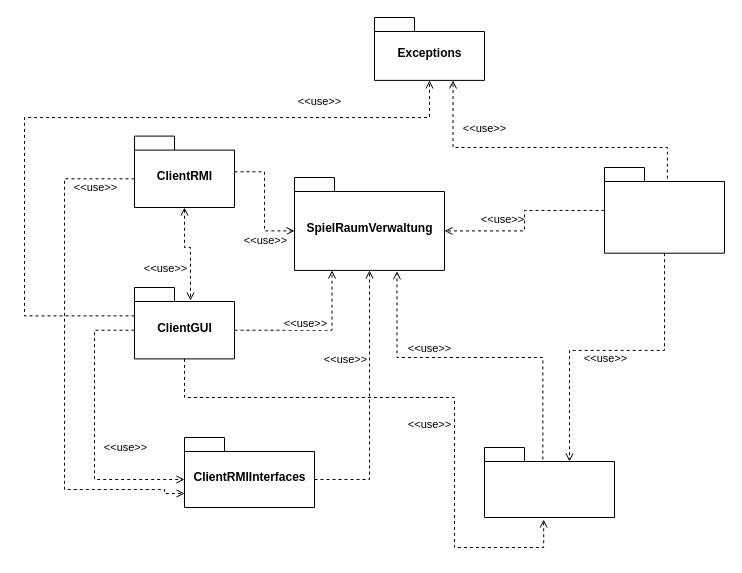
The diagram is 742 pixels wide and 573 high, and some of its shapes have lost their labels. Here are the shapes that lost their labels. From the top down, the centre of each, then its label:
(664,209): ServerRMI
(549,482): ServerRMIInterfaces
